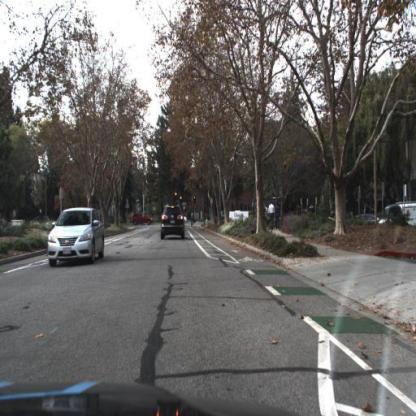biker: (189, 211, 197, 228)
car: (47, 206, 106, 267), (160, 204, 187, 243)
pedestrian: (275, 201, 283, 233), (267, 200, 275, 230)
